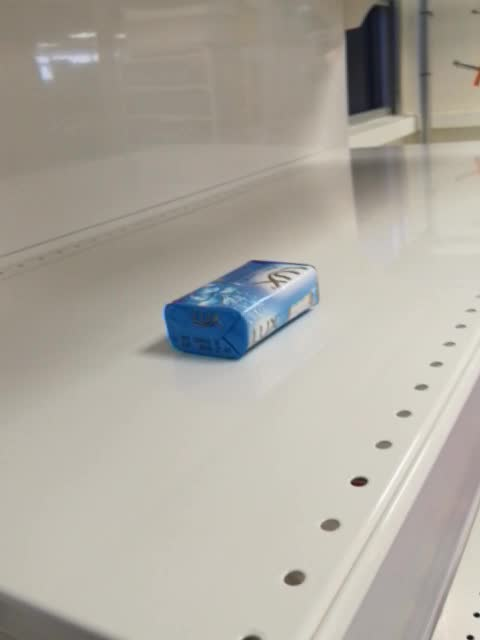soap: (161, 257, 320, 362)
